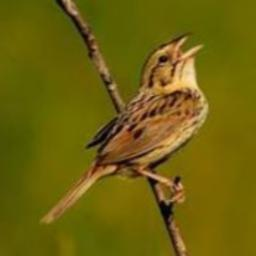Sparrow: (33, 30, 209, 226)
